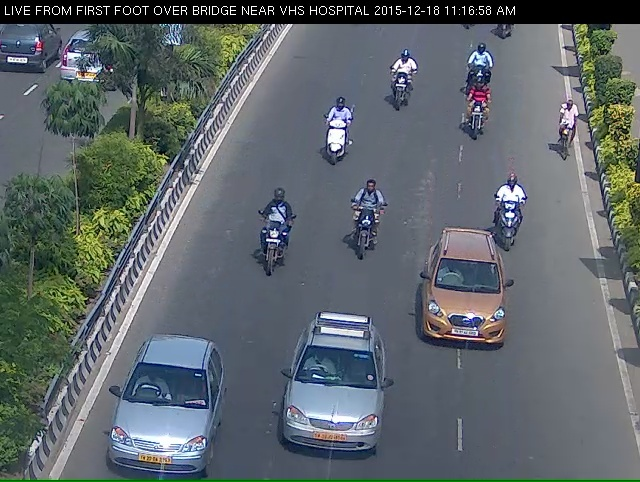Car: (273, 332, 389, 475), (103, 357, 205, 474), (419, 233, 508, 356)
Person: (249, 198, 286, 290), (490, 185, 530, 262), (314, 99, 351, 179), (347, 190, 379, 273), (383, 52, 416, 117), (463, 86, 494, 146), (461, 42, 493, 91)
